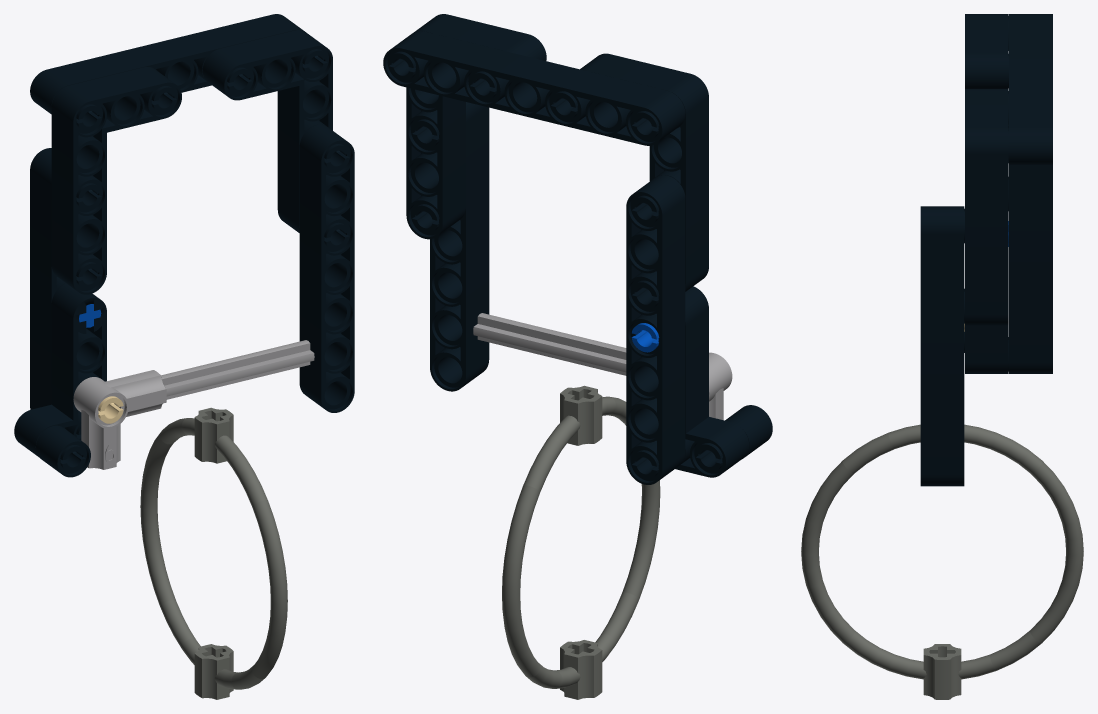
The model's file is one_way_2.glb.
3 renders of one model, left to right at view 1: azimuth 30°, elevation 25°; view 2: azimuth 150°, elevation 25°; view 3: azimuth 270°, elevation 25°, orthographic. The views are drawn at different scales.
Visible parts, largest first — view 1: 32524.dat.002, 79851.dat, 32526.dat, 32526.dat.001, 32014.dat, 32524.dat.001, 32140.dat, 32524.dat, 18654.dat, 2780.dat.002, 2780.dat.008, 2780.dat.009 (+7 smaller); view 2: 32524.dat, 32524.dat.001, 79851.dat, 32524.dat.002, 32526.dat.001, 32526.dat, 32140.dat, 32014.dat, 18654.dat, 2780.dat.007, 2780.dat.009, 2780.dat.005 (+8 smaller); view 3: 79851.dat, 32524.dat.002, 32526.dat.001, 32524.dat, 32524.dat.001, 32526.dat, 32140.dat.
Part boxes in pixels (x1,y1,x2,y2): 32524.dat.002: [299, 124, 354, 412]; 79851.dat: [140, 407, 287, 699]; 32526.dat: [51, 67, 181, 294]; 32526.dat.001: [202, 30, 332, 232]; 32014.dat: [73, 340, 314, 469]; 32524.dat.001: [30, 14, 304, 114]; 32140.dat: [14, 283, 106, 456]; 32524.dat: [30, 148, 65, 409]; 18654.dat: [36, 425, 90, 477]; 2780.dat.002: [76, 183, 101, 210]; 2780.dat.008: [324, 144, 349, 171]; 2780.dat.009: [324, 222, 349, 250]; 32524.dat: [626, 175, 685, 484]; 32524.dat.001: [383, 31, 685, 145]; 79851.dat: [502, 385, 660, 699]; 32524.dat.002: [430, 102, 489, 391]; 32526.dat.001: [406, 14, 546, 239]; 32526.dat: [580, 53, 708, 291]; 32140.dat: [675, 286, 749, 477]; 32014.dat: [473, 313, 732, 420]; 18654.dat: [725, 405, 772, 458]; 2780.dat.007: [388, 51, 415, 81]; 2780.dat.009: [412, 204, 439, 233]; 2780.dat.005: [550, 91, 577, 120]; 79851.dat: [801, 424, 1083, 699]; 32524.dat.002: [920, 206, 964, 486]; 32526.dat.001: [965, 89, 1008, 325]; 32524.dat: [1009, 165, 1052, 373]; 32524.dat.001: [1009, 14, 1052, 165]; 32526.dat: [965, 14, 1008, 88]; 32140.dat: [965, 326, 1008, 373].
Size of the model in its own units: 1.58 by 3.09 by 1.28.
